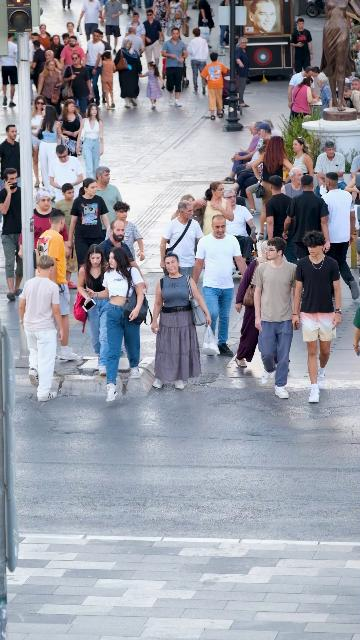person: (291, 231, 342, 404), (89, 247, 145, 402), (151, 251, 212, 391), (191, 215, 247, 359), (251, 236, 298, 399), (19, 253, 66, 403), (36, 209, 77, 362), (244, 138, 316, 215), (321, 172, 360, 300), (233, 243, 271, 368), (250, 136, 294, 241), (282, 174, 332, 263), (77, 246, 111, 375), (28, 191, 72, 290), (69, 177, 111, 273), (97, 219, 149, 295), (159, 200, 204, 280), (217, 190, 258, 277), (228, 123, 272, 197), (0, 168, 24, 302), (262, 174, 293, 262), (190, 181, 235, 236), (107, 200, 145, 264), (223, 122, 262, 183), (35, 105, 62, 193), (90, 166, 124, 231), (76, 103, 104, 181), (48, 144, 85, 202), (200, 52, 230, 120), (162, 27, 187, 107), (61, 52, 93, 114), (115, 40, 143, 110), (314, 141, 348, 196), (30, 97, 49, 188), (85, 31, 107, 107), (187, 27, 210, 95), (37, 60, 65, 115), (58, 99, 83, 158), (287, 66, 322, 108), (0, 32, 19, 108), (0, 124, 22, 185), (290, 17, 313, 74), (233, 36, 251, 108), (78, 0, 103, 50), (139, 61, 165, 109), (291, 76, 318, 121), (143, 9, 163, 69), (98, 51, 118, 110), (102, 0, 124, 53), (29, 40, 46, 103), (195, 0, 215, 49), (54, 183, 77, 225), (166, 0, 187, 46), (60, 36, 86, 72), (219, 0, 236, 49), (344, 154, 360, 206), (151, 0, 169, 46), (125, 12, 146, 50), (282, 167, 305, 199), (171, 193, 196, 220), (316, 80, 332, 120), (125, 26, 145, 58), (51, 33, 72, 62), (352, 303, 360, 362), (308, 66, 320, 105), (36, 24, 52, 50), (45, 35, 62, 59), (45, 50, 63, 71), (263, 119, 283, 137), (62, 22, 77, 46), (350, 78, 360, 110), (29, 33, 45, 50), (342, 83, 353, 107), (315, 177, 327, 198), (125, 0, 133, 16), (61, 0, 71, 9)
